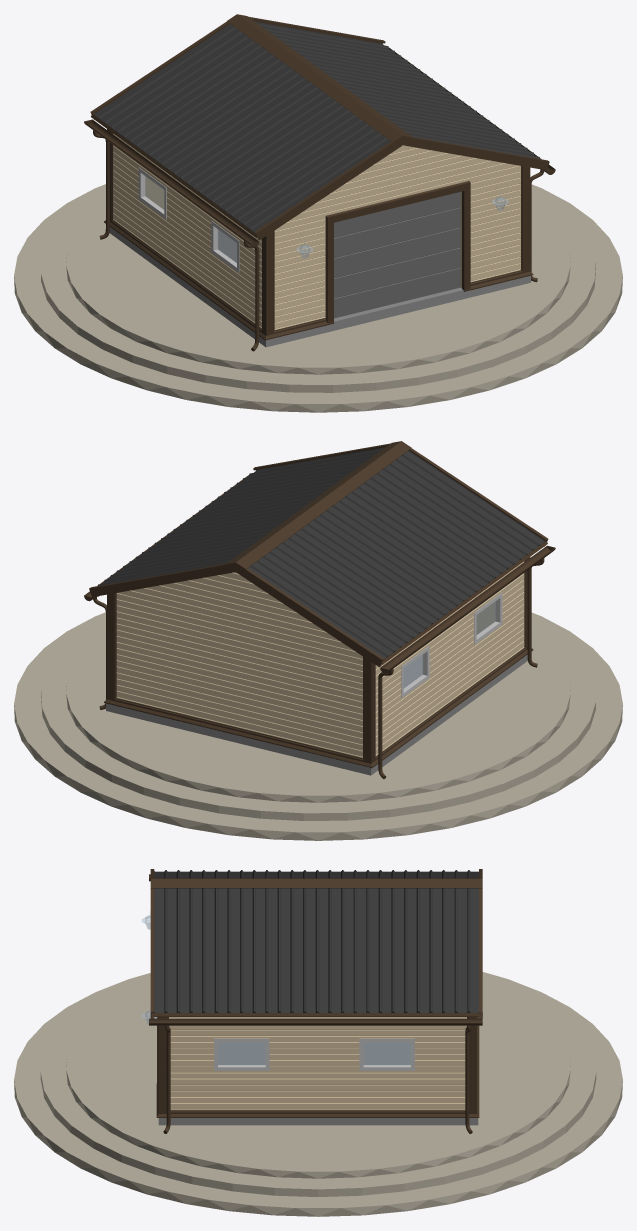
The model's file is garage_6x6.glb.
3 renders of one model, top to bottom at view 1: azimuth 30°, elevation 25°; view 2: azimuth 150°, elevation 25°; view 3: azimuth 270°, elevation 25°, orthographic.
Visible parts, largest first — view 1: ground, roof, walls, trim, gate, foundation, windows, glass; view 2: ground, roof, walls, trim, foundation, windows, glass; view 3: ground, roof, walls, trim, foundation, glass, windows.
Boxes of the visible parts, left/top/right/bottom form: ground: left=14, top=184, right=622, bottom=412; roof: left=93, top=21, right=540, bottom=232; walls: left=113, top=134, right=520, bottom=329; trim: left=84, top=14, right=555, bottom=351; gate: left=334, top=192, right=460, bottom=318; foundation: left=109, top=227, right=530, bottom=347; windows: left=138, top=167, right=239, bottom=272; glass: left=145, top=176, right=508, bottom=262; ground: left=14, top=612, right=622, bottom=840; roof: left=98, top=447, right=545, bottom=658; walls: left=116, top=561, right=524, bottom=757; trim: left=84, top=441, right=555, bottom=779; foundation: left=106, top=655, right=527, bottom=775; windows: left=401, top=593, right=502, bottom=698; glass: left=404, top=601, right=495, bottom=687; ground: left=14, top=972, right=622, bottom=1216; roof: left=152, top=870, right=478, bottom=1012; walls: left=169, top=1017, right=466, bottom=1110; trim: left=149, top=869, right=482, bottom=1133; foundation: left=158, top=1042, right=478, bottom=1125; glass: left=142, top=915, right=410, bottom=1064; windows: left=214, top=1038, right=414, bottom=1070.
Size of the model in its own units: 12.06 by 4.58 by 12.06.
